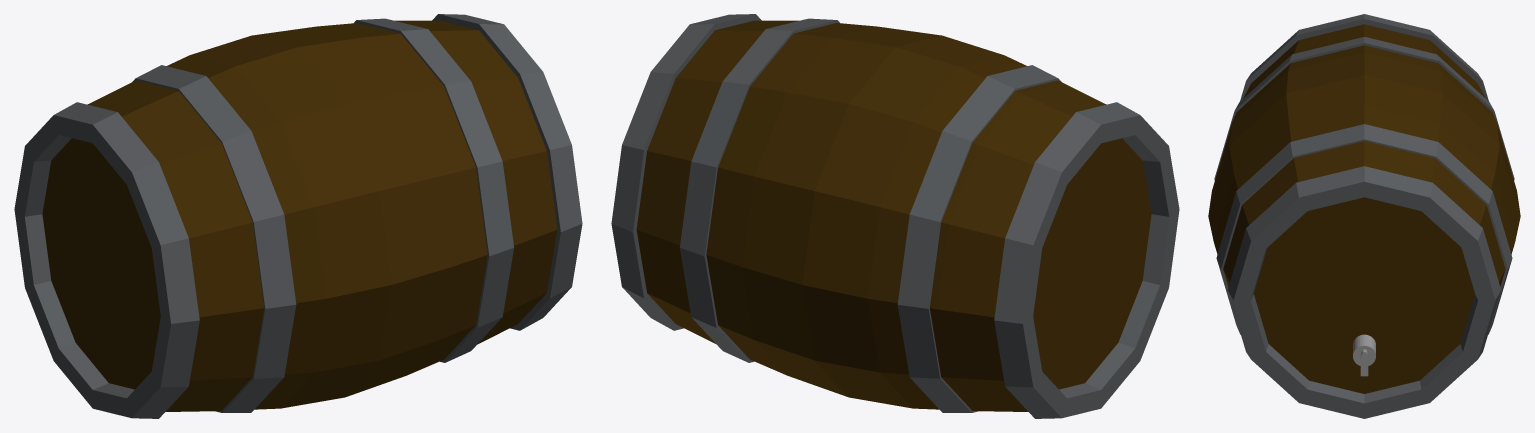
Rendered from barrelHook.fbx.
3 views of the same model, side by side, from view 1: azimuth 30°, elevation 25°; view 2: azimuth 150°, elevation 25°; view 3: azimuth 270°, elevation 25° (orthographic). The views are drawn at different scales.
Visible parts, largest first — view 1: Cylinder, Cylinder.002, Cylinder.004, Cylinder.003, Cylinder.001; view 2: Cylinder, Cylinder.002, Cylinder.004, Cylinder.003, Cylinder.001; view 3: Cylinder.001, Cylinder, Cylinder.003, Cylinder.002, Cylinder.004, Circle.
Boxes of the visible parts, bbox=[...] form: Cylinder: bbox=[87, 20, 557, 411]; Cylinder.002: bbox=[14, 102, 199, 418]; Cylinder.004: bbox=[132, 65, 296, 412]; Cylinder.003: bbox=[354, 18, 514, 362]; Cylinder.001: bbox=[432, 14, 582, 330]; Cylinder: bbox=[636, 20, 1106, 411]; Cylinder.002: bbox=[994, 102, 1179, 418]; Cylinder.004: bbox=[897, 65, 1061, 412]; Cylinder.003: bbox=[679, 18, 839, 362]; Cylinder.001: bbox=[611, 14, 761, 330]; Cylinder.001: bbox=[1228, 166, 1500, 418]; Cylinder: bbox=[1208, 24, 1520, 286]; Cylinder.003: bbox=[1216, 124, 1512, 334]; Cylinder.002: bbox=[1240, 14, 1488, 101]; Cylinder.004: bbox=[1214, 37, 1514, 180]; Circle: bbox=[1353, 334, 1375, 365].
Size of the model in its own units: 321 by 242 by 242.
